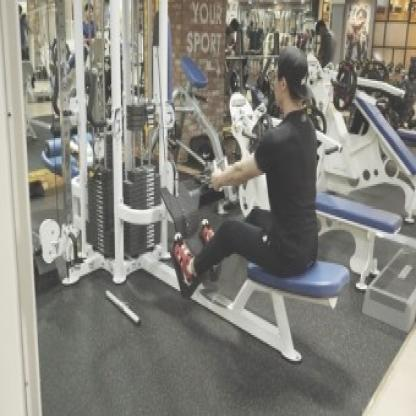Seated Cable Rows: (28, 8, 347, 416)
